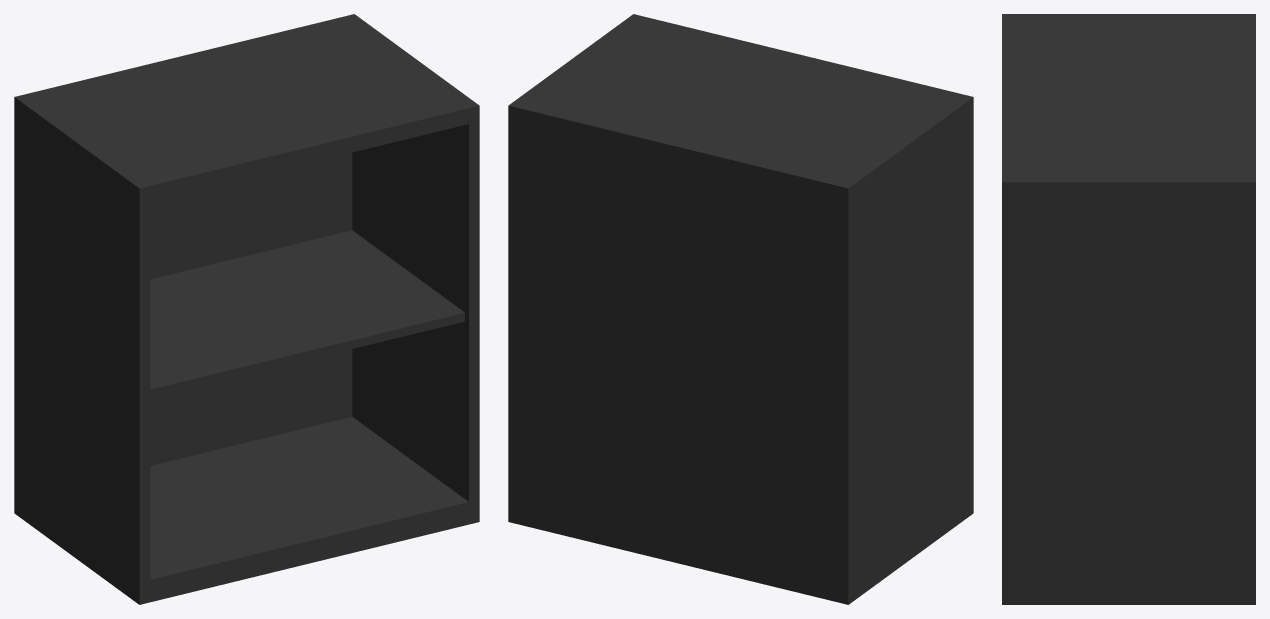
The model's file is shelf_2.glb.
3 renders of one model, left to right at view 1: azimuth 30°, elevation 25°; view 2: azimuth 150°, elevation 25°; view 3: azimuth 270°, elevation 25°, orthographic.
Visible parts, largest first — view 1: Expositor 1x1 B; view 2: Expositor 1x1 B; view 3: Expositor 1x1 B.
Part boxes in pixels (x1,y1,x2,y2): Expositor 1x1 B: (14,14,479,604); Expositor 1x1 B: (508,14,973,604); Expositor 1x1 B: (1002,14,1255,604).
Bounding box in the file's own units: 0.7113 × 0.8324 × 0.4532.
Materials: 1 (1 with a texture image).
